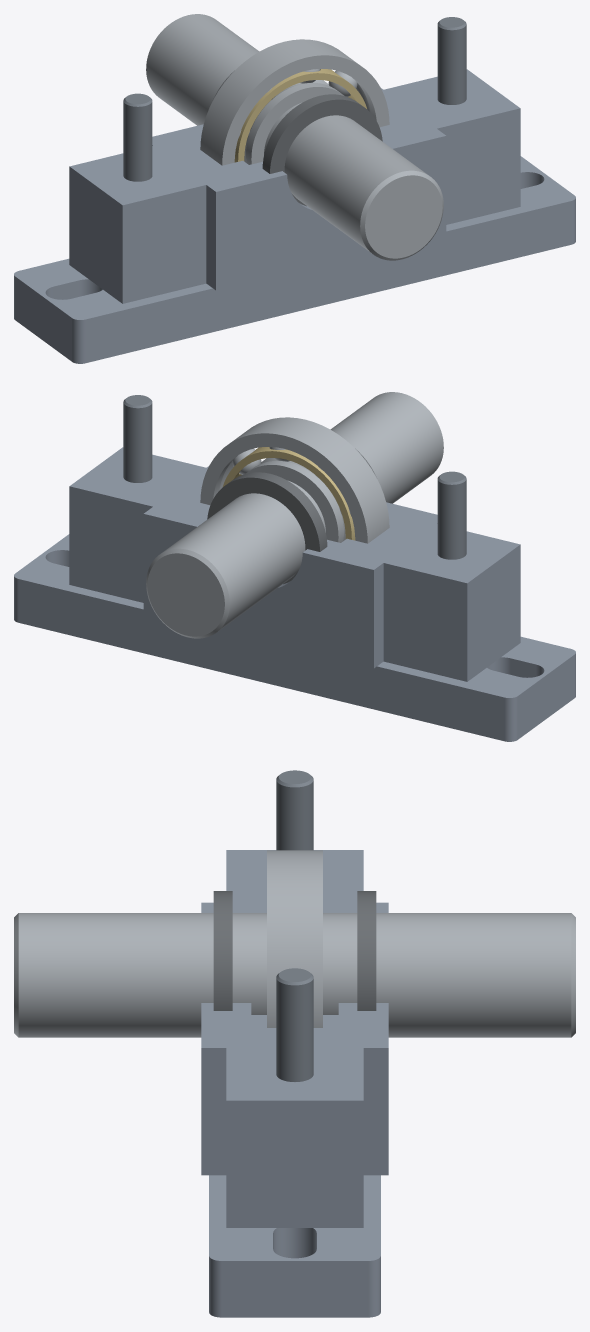
File: step_24.glb
3 views of the same model, one above another, from view 1: azimuth 30°, elevation 25°; view 2: azimuth 150°, elevation 25°; view 3: azimuth 270°, elevation 25° (orthographic). The views are drawn at different scales.
Parts seen in each view (by area): view 1: part__housing base, part__shaft, part__bearing outer ring, part__felt seal 2, part__stud 2, part__stud 1, part__bearing inner ring, part__bearing cage; view 2: part__housing base, part__shaft, part__bearing outer ring, part__felt seal 1, part__stud 2, part__stud 1, part__bearing inner ring, part__bearing cage; view 3: part__housing base, part__shaft, part__bearing outer ring, part__stud 1, part__stud 2, part__felt seal 1, part__felt seal 2.
Part boxes in pixels (box(x1,y1,x2,y2)): part__housing base: box(14, 69, 575, 363); part__shaft: box(146, 14, 443, 260); part__bearing outer ring: box(200, 39, 389, 165); part__felt seal 2: box(262, 94, 382, 206); part__stud 2: box(123, 93, 152, 181); part__stud 1: box(437, 17, 466, 104); part__bearing inner ring: box(244, 80, 344, 164); part__bearing cage: box(234, 69, 366, 162); part__housing base: box(14, 447, 575, 741); part__shaft: box(146, 392, 443, 638); part__bearing outer ring: box(200, 417, 389, 543); part__felt seal 1: box(207, 472, 327, 584); part__stud 2: box(437, 471, 466, 559); part__stud 1: box(123, 395, 152, 482); part__bearing inner ring: box(245, 458, 345, 542); part__bearing cage: box(223, 447, 355, 540); part__housing base: box(201, 850, 388, 1317); part__shaft: box(14, 913, 575, 1037); part__bearing outer ring: box(267, 850, 322, 1027); part__stud 1: box(276, 968, 313, 1081); part__stud 2: box(276, 770, 313, 850); part__felt seal 1: box(357, 891, 376, 1010); part__felt seal 2: box(213, 891, 232, 1010).
Size of the model in its own units: 240 by 105 by 180.
